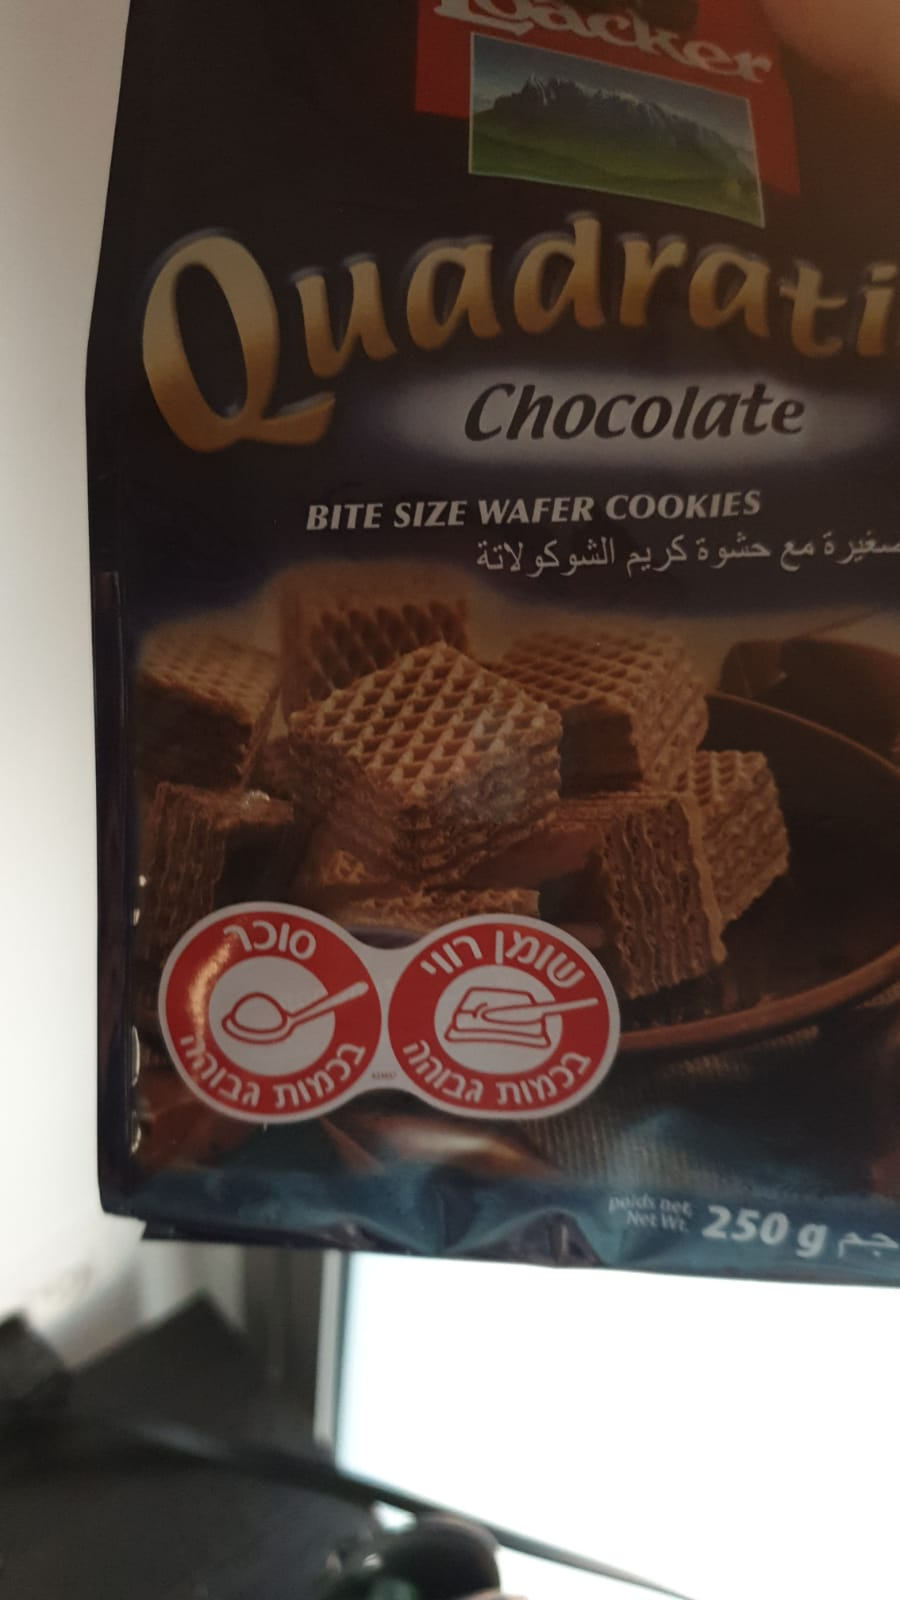fat: (379, 910, 621, 1127)
sugar: (156, 903, 387, 1126)
